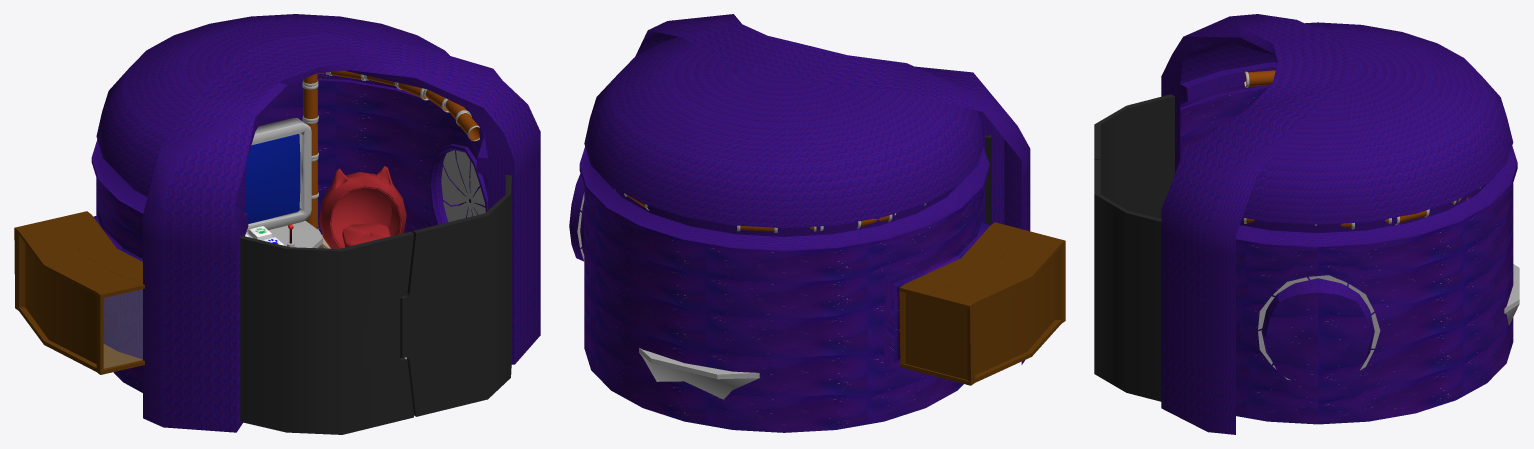
3 views of the same model, side by side, from view 1: azimuth 30°, elevation 25°; view 2: azimuth 150°, elevation 25°; view 3: azimuth 270°, elevation 25° (orthographic). The views are drawn at different scales.
Parts seen in each view (by area): view 1: Nave_Base, Porta1, Porta2, aquario, monitor, caminha, mesa, almofada, Pipe_Normal_013, Plane_9, Plane_8; view 2: Nave_Base, aquario, mesa, Porta1; view 3: Nave_Base, Porta2, Porta1, mesa, Pipe_Normal_005.
Part boxes in pixels (x1=…): Nave_Base: x1=77, y1=14, x2=540, y2=432; Porta1: x1=240, y1=231, x2=413, y2=434; Porta2: x1=400, y1=175, x2=511, y2=416; aquario: x1=14, y1=211, x2=144, y2=374; monitor: x1=244, y1=118, x2=311, y2=232; caminha: x1=319, y1=166, x2=406, y2=248; mesa: x1=268, y1=220, x2=322, y2=248; almofada: x1=342, y1=223, x2=390, y2=247; Pipe_Normal_013: x1=302, y1=83, x2=318, y2=121; Plane_9: x1=441, y1=166, x2=469, y2=205; Plane_8: x1=443, y1=150, x2=470, y2=199; Nave_Base: x1=569, y1=14, x2=1030, y2=432; aquario: x1=899, y1=222, x2=1065, y2=385; mesa: x1=639, y1=348, x2=759, y2=399; Porta1: x1=985, y1=135, x2=991, y2=224; Nave_Base: x1=1161, y1=14, x2=1517, y2=434; Porta2: x1=1094, y1=159, x2=1161, y2=401; Porta1: x1=1094, y1=94, x2=1174, y2=218; mesa: x1=1504, y1=264, x2=1519, y2=325; Pipe_Normal_005: x1=1243, y1=70, x2=1275, y2=223.
Size of the model in its own units: 485 by 306 by 411.
Materials: 15 (2 with a texture image).
